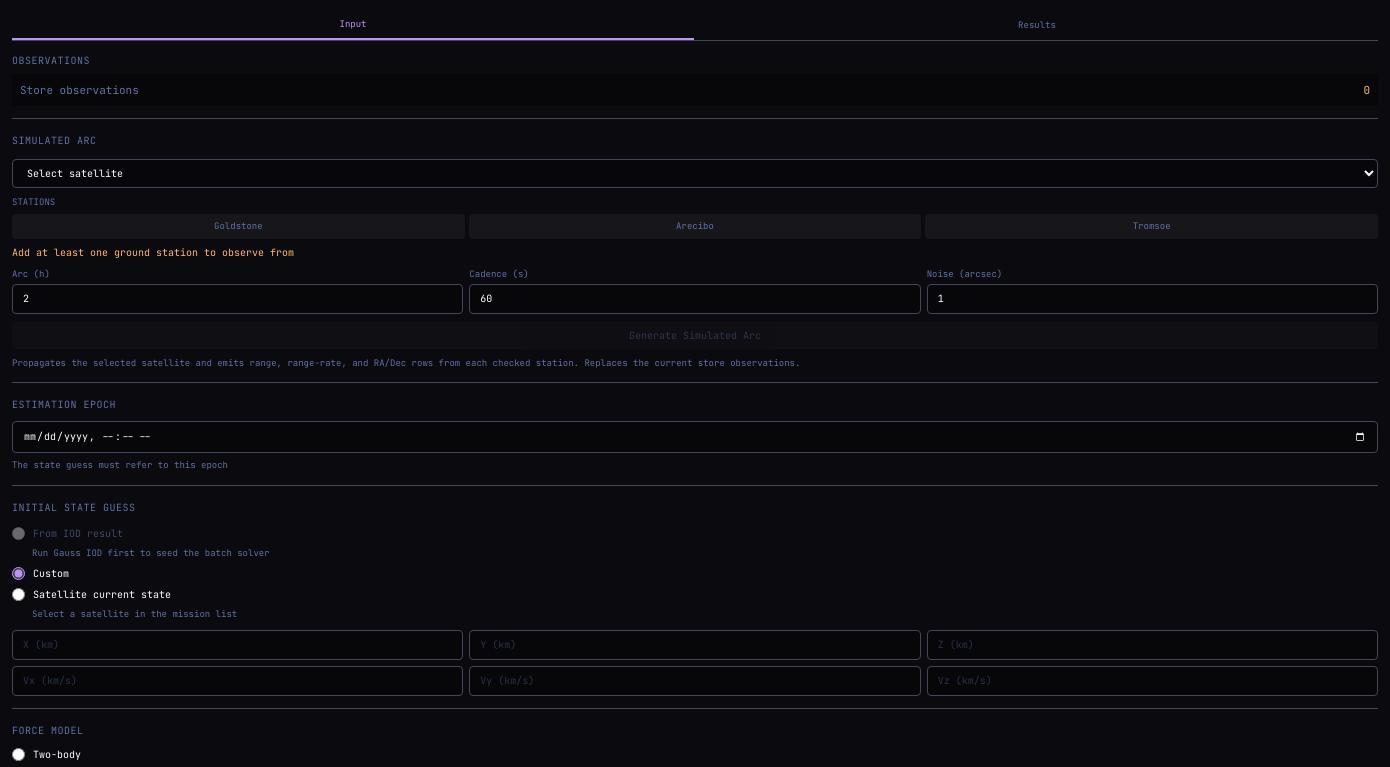
Test: BatchPanel › generate-arc populates store observations from the Phase 1 simulator
Click the button "Goldstone": (238, 226) x1=12 y1=214 x2=465 y2=239
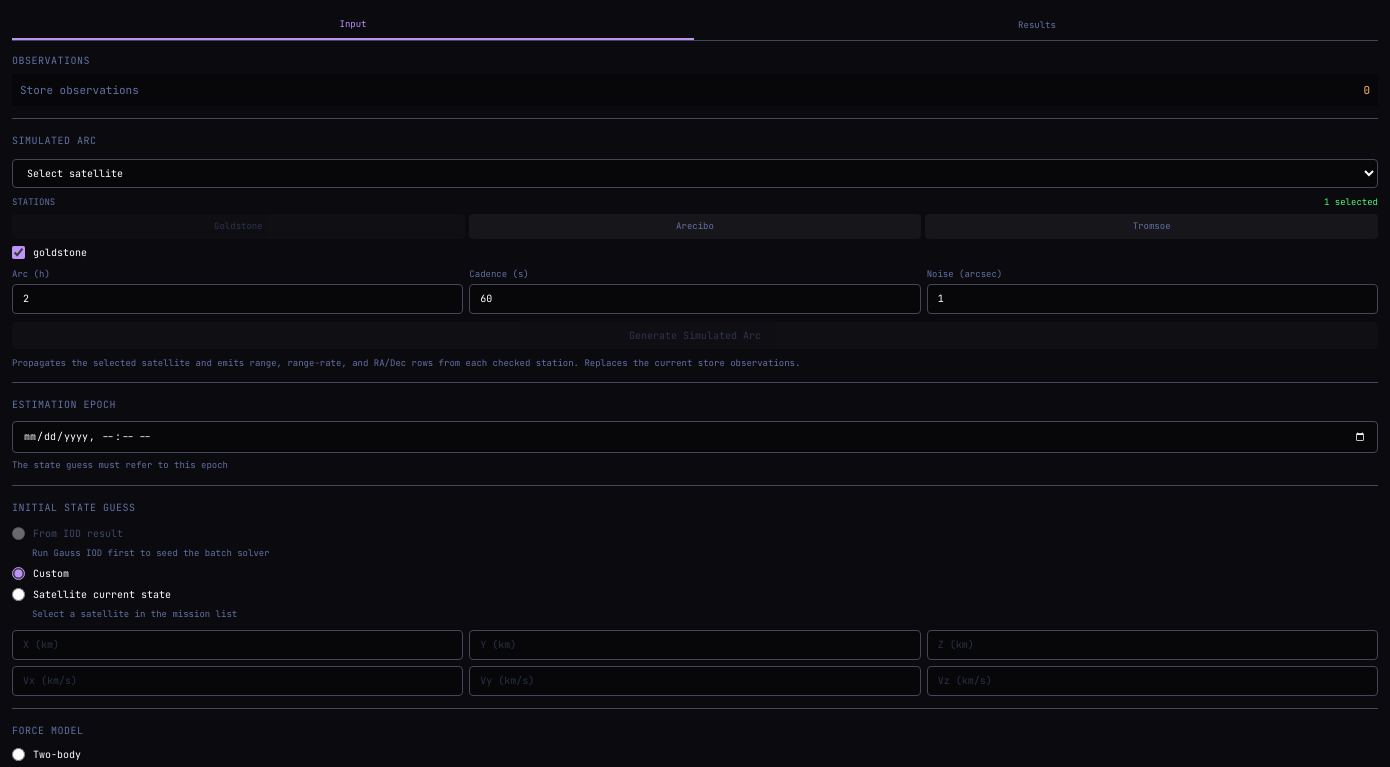
Select "ISS" in the dropdown named "Simulator satellite": (695, 174) x1=12 y1=159 x2=1378 y2=188
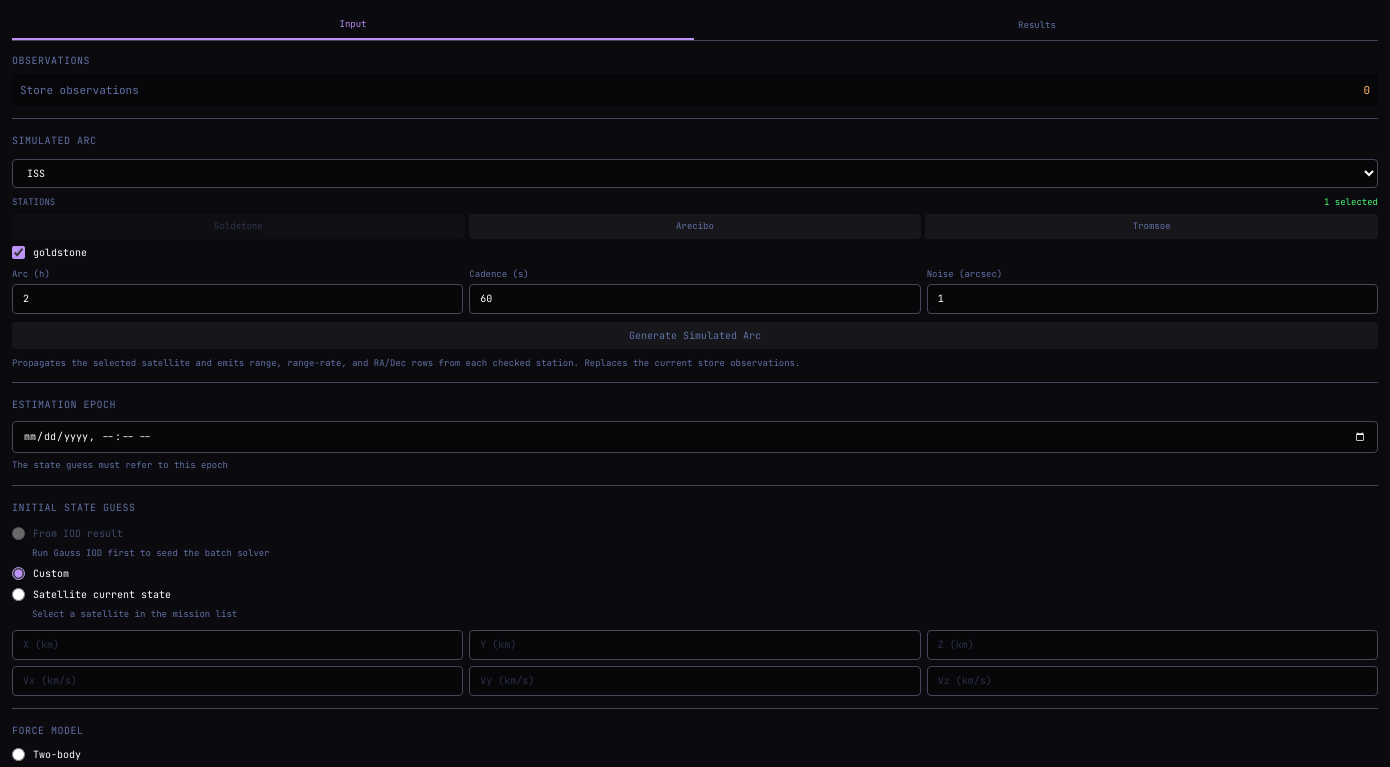
Click the button "Generate Simulated Arc": (695, 335) x1=12 y1=322 x2=1378 y2=348
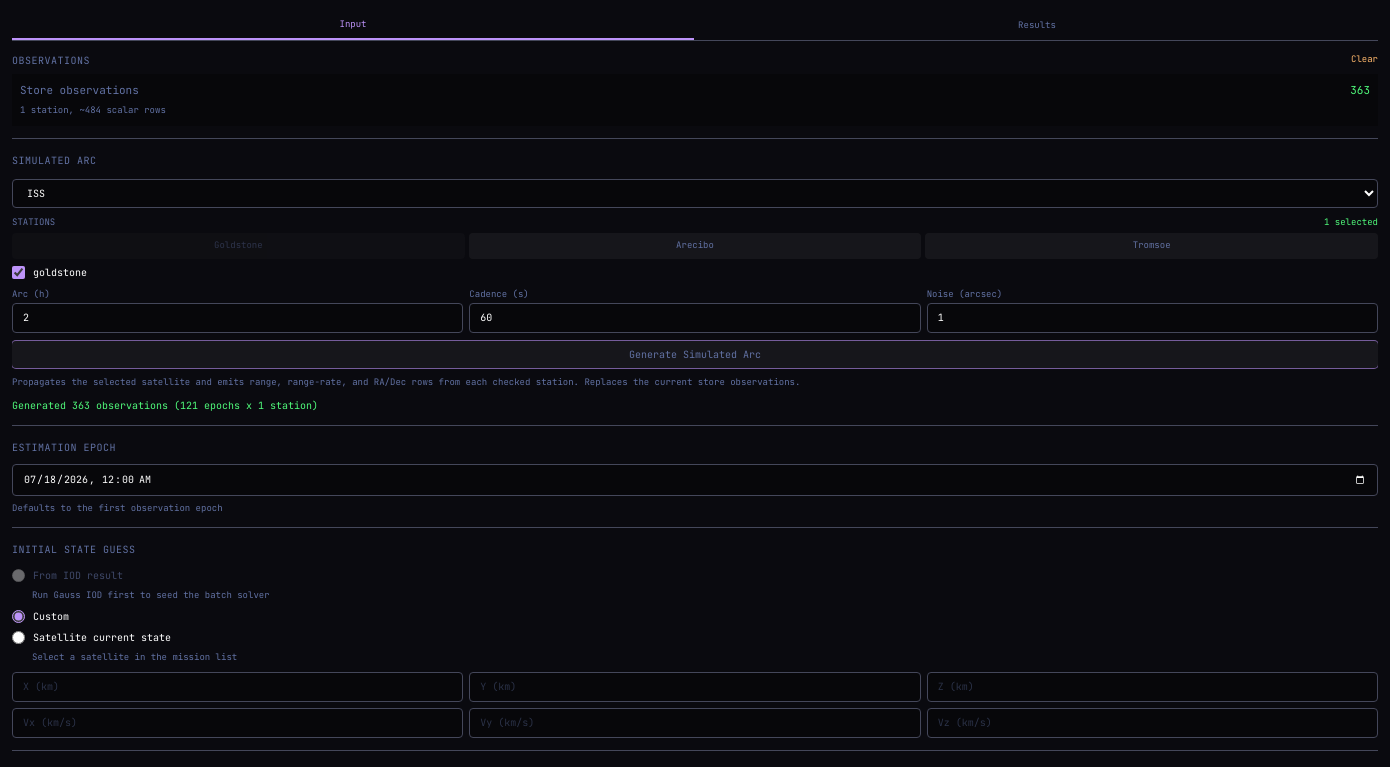
Expected: the text "Generated 363 observations (121 epochs x 1 station)" is shown, x1=12 y1=398 x2=318 y2=412
